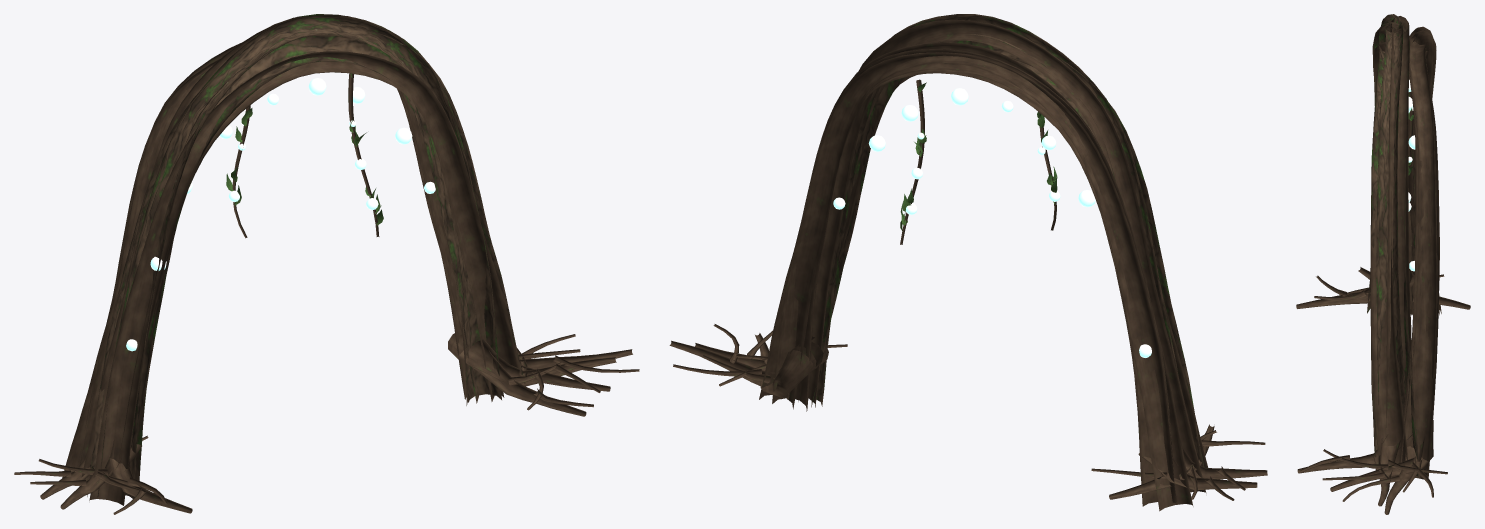
The model's file is living_root_arch.glb.
3 views of the same model, side by side, from view 1: azimuth 30°, elevation 25°; view 2: azimuth 150°, elevation 25°; view 3: azimuth 270°, elevation 25° (orthographic). The views are drawn at different scales.
Parts seen in each view (by area): view 1: living_root_arch__root, living_root_arch__bark, living_root_arch__glow_core, living_root_arch__leaf; view 2: living_root_arch__root, living_root_arch__bark, living_root_arch__glow_core, living_root_arch__leaf; view 3: living_root_arch__root, living_root_arch__bark, living_root_arch__glow_core.
Part boxes in pixels (x1,y1,x2,y2): living_root_arch__root: (14,16,639,514); living_root_arch__bark: (87,14,525,498); living_root_arch__glow_core: (126,78,435,351); living_root_arch__leaf: (226,73,383,225); living_root_arch__root: (669,19,1267,511); living_root_arch__bark: (787,14,1204,466); living_root_arch__glow_core: (833,88,1151,357); living_root_arch__leaf: (900,82,1057,231); living_root_arch__root: (1296,16,1470,514); living_root_arch__bark: (1367,14,1419,478); living_root_arch__glow_core: (1408,79,1415,271).
Bounding box in the file's own units: 6.79 × 4.79 × 2.02.
Materials: 4 (3 with a texture image).
